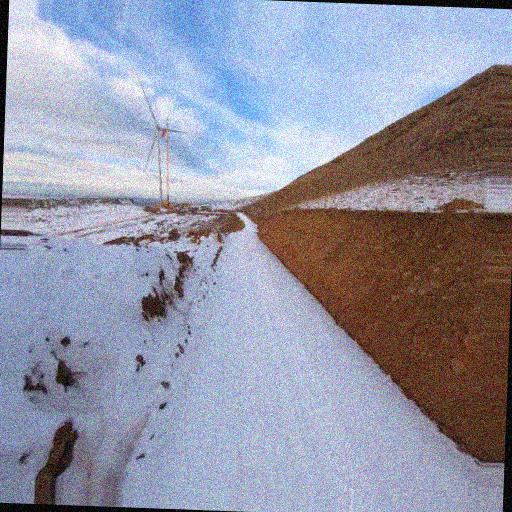wind turbine: (135, 72, 187, 211)
